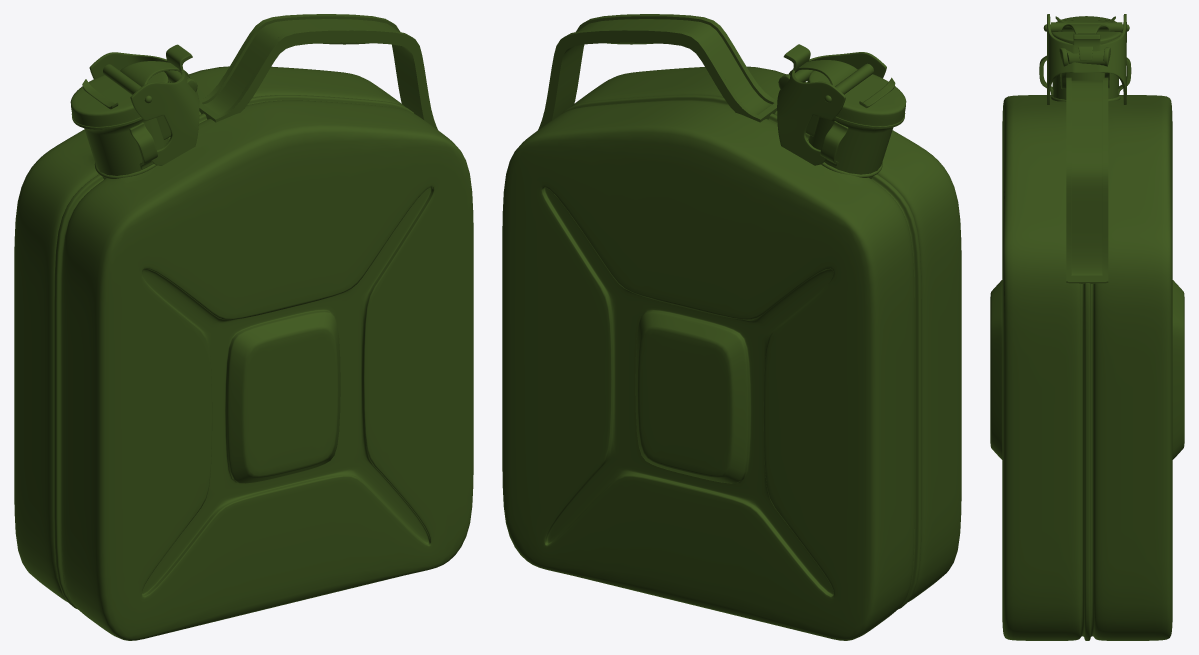
The picture shows the model from 3 angles, left to right: view 1: azimuth 30°, elevation 25°; view 2: azimuth 150°, elevation 25°; view 3: azimuth 270°, elevation 25°; orthographic projection. The views are drawn at different scales.
Visible parts, largest first — view 1: Yt; view 2: Yt; view 3: Yt.
Part boxes in pixels (x1=…): Yt: x1=14, y1=14, x2=473, y2=640; Yt: x1=502, y1=14, x2=961, y2=640; Yt: x1=990, y1=14, x2=1184, y2=640.
Size of the model in its own units: 40.92 by 55.95 by 19.42.
